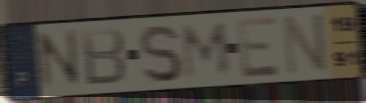B: (79, 26, 129, 88)
E: (234, 14, 283, 81)
M: (181, 20, 232, 81)
N: (34, 26, 85, 94), (280, 11, 330, 78)
S: (136, 22, 185, 85)
